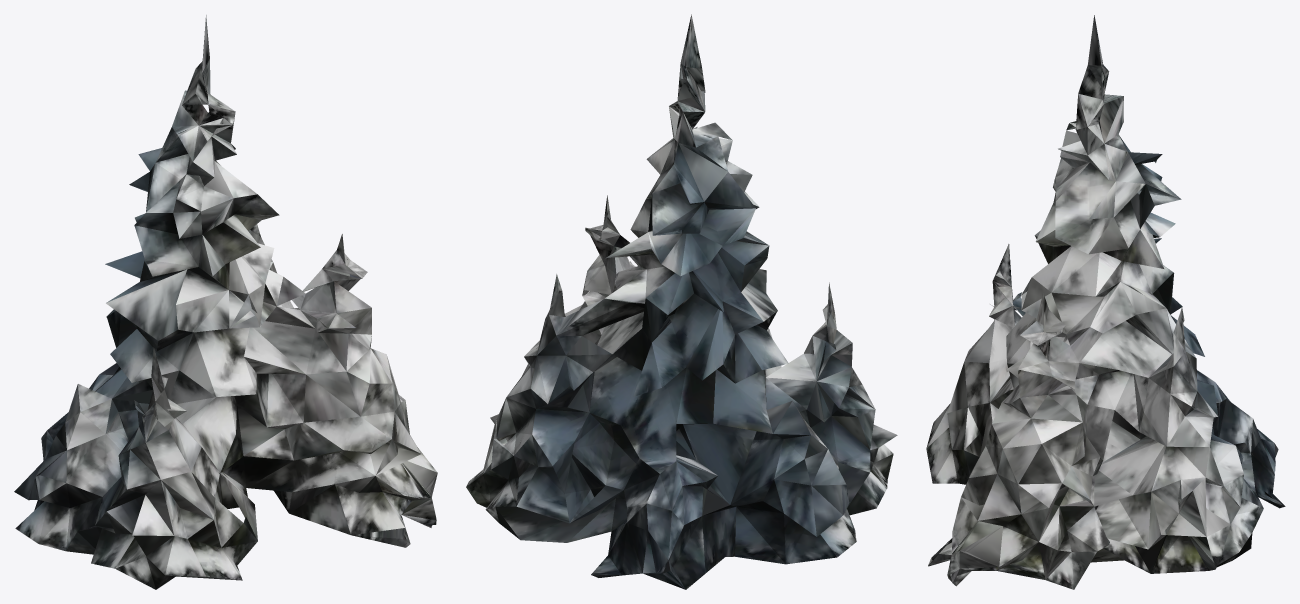
File: tundra-tree-2.glb
The picture shows the model from 3 angles, left to right: view 1: azimuth 30°, elevation 25°; view 2: azimuth 150°, elevation 25°; view 3: azimuth 270°, elevation 25°; orthographic projection.
Parts seen in each view (by area): view 1: geometry_0; view 2: geometry_0; view 3: geometry_0.
Boxes of the visible parts, x1,y1,x2,y2 form: geometry_0: [14, 15, 437, 589]; geometry_0: [466, 14, 897, 589]; geometry_0: [926, 15, 1285, 589].
Size of the model in its own units: 0.6969 by 0.9473 by 0.6207.
1 material, 1 textured.
